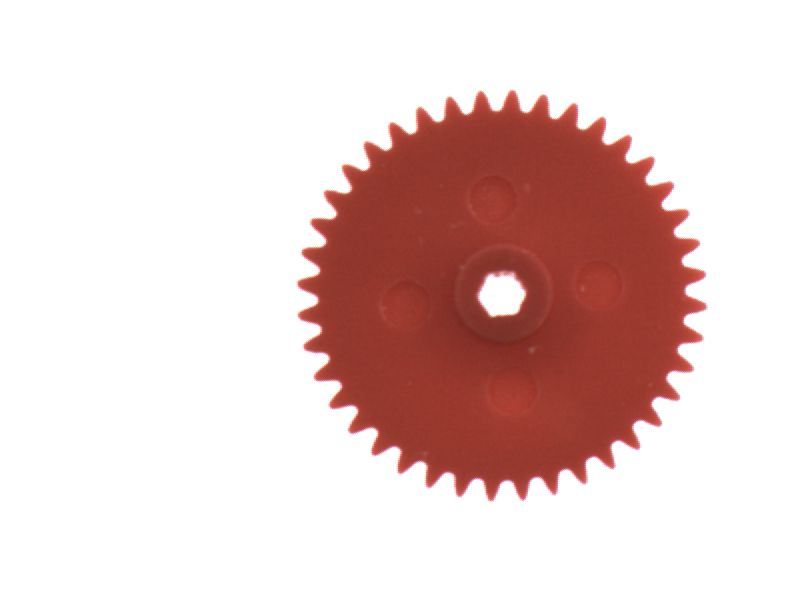good_product: (281, 78, 720, 513)
